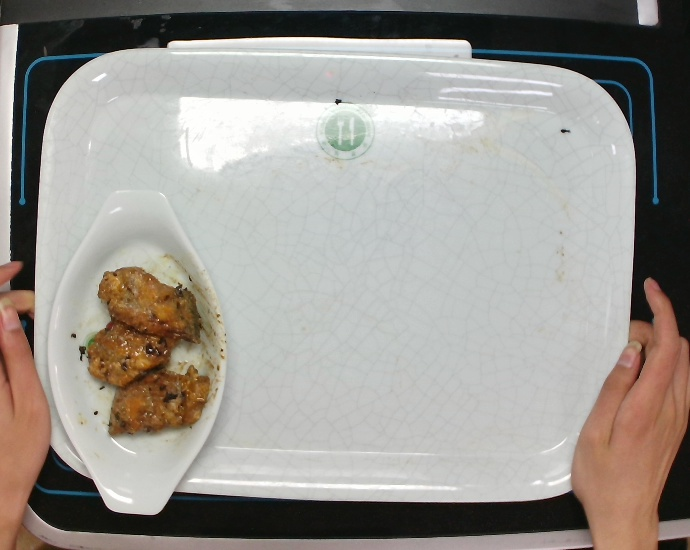JYsf-Yu_Pan: (41, 186, 231, 520)
